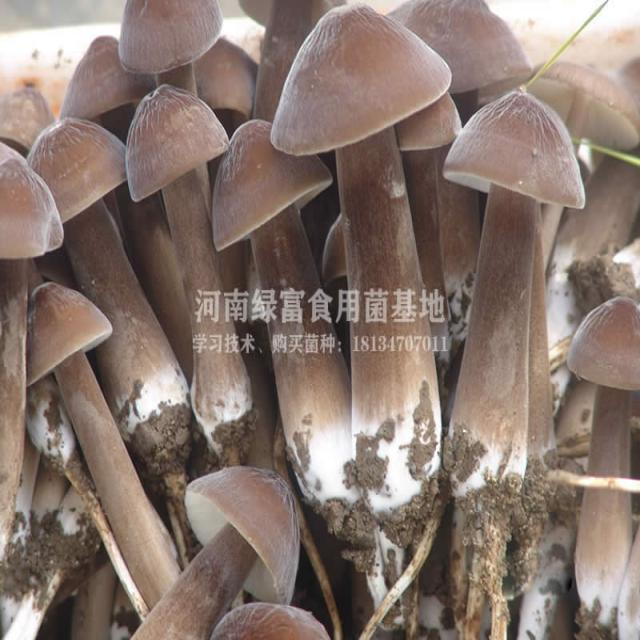Collybia albuminosa: (274, 6, 454, 476), (1, 284, 182, 602), (449, 92, 585, 486), (30, 122, 189, 455), (214, 121, 336, 504), (128, 83, 248, 427), (146, 469, 301, 640), (0, 142, 64, 521), (569, 298, 640, 615)
